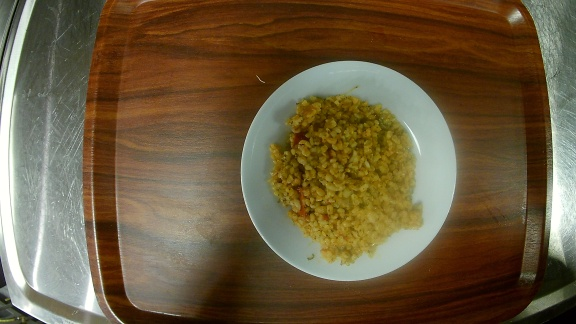bulgur: (241, 60, 459, 281)
